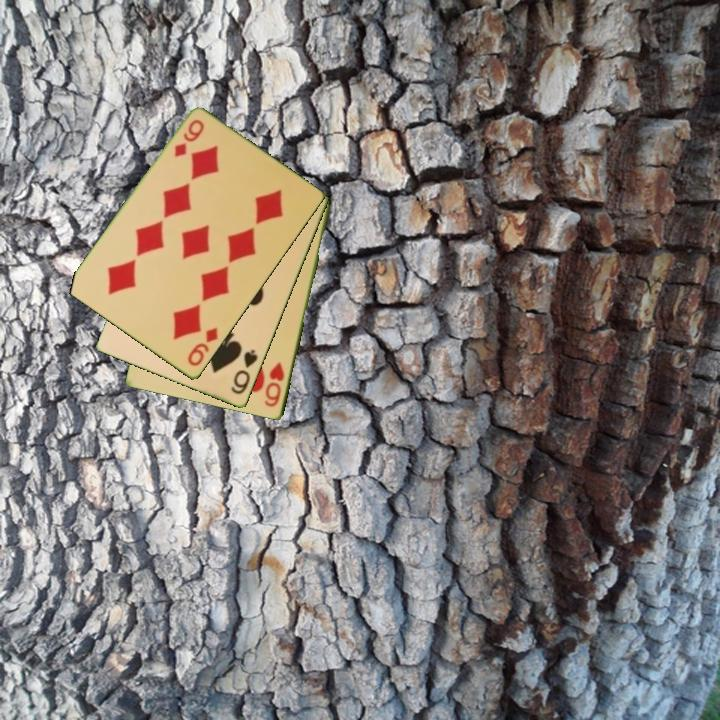6h: (261, 359, 288, 410)
6s: (227, 346, 261, 398)
9d: (184, 324, 221, 370), (171, 116, 207, 160)
